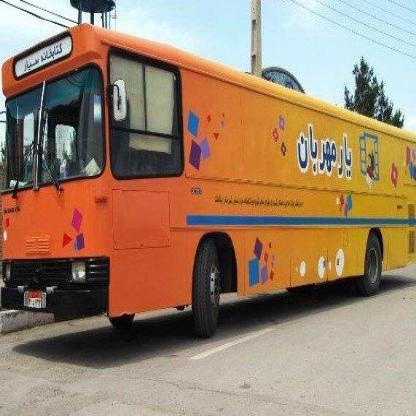Bus: (0, 25, 416, 354)
